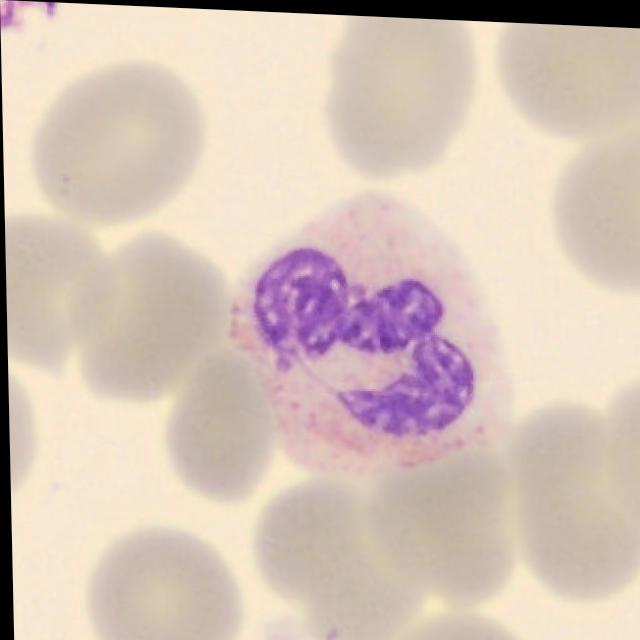Neutrofilo segmentado: (224, 189, 515, 480)
